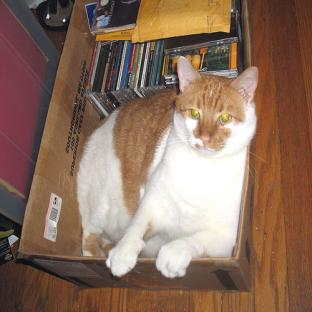Animal: (77, 56, 258, 277)
